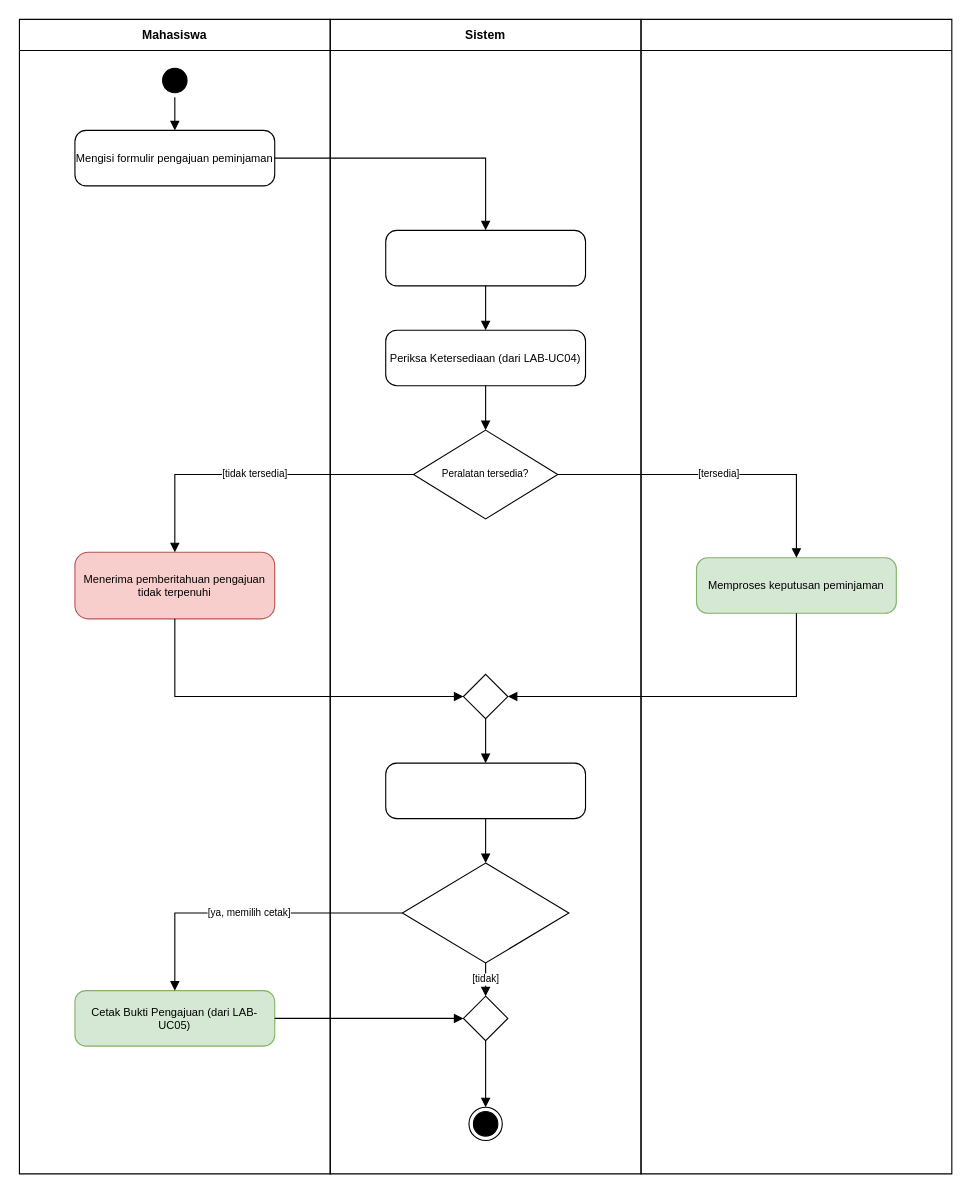
Some shapes in this 971 by 1193 pixel diagram are drawn without their labels. Each missing label, with the box of its shape:
Mahasiswa memilih cetak bukti?: (401, 862, 569, 963)
Mencatat hasil akhir pengajuan: (385, 762, 586, 819)
Menyimpan data pengajuan peminjaman: (385, 229, 586, 286)
Petugas Laboratorium: (640, 18, 952, 1174)
